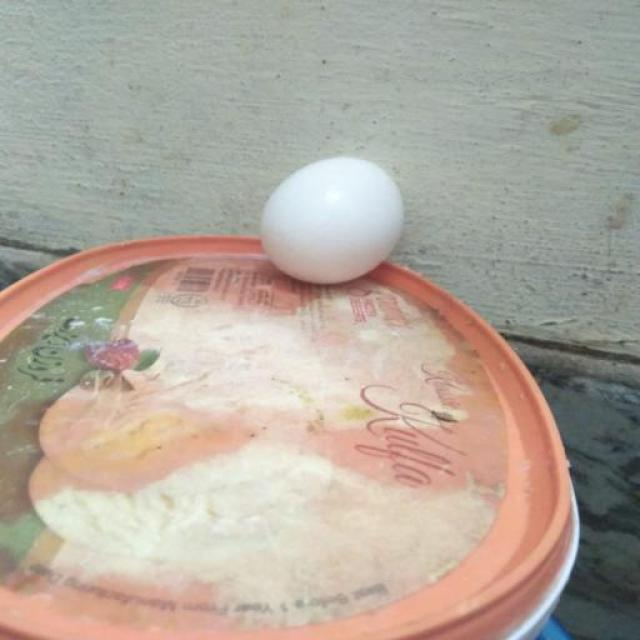telur: (260, 156, 403, 285)
